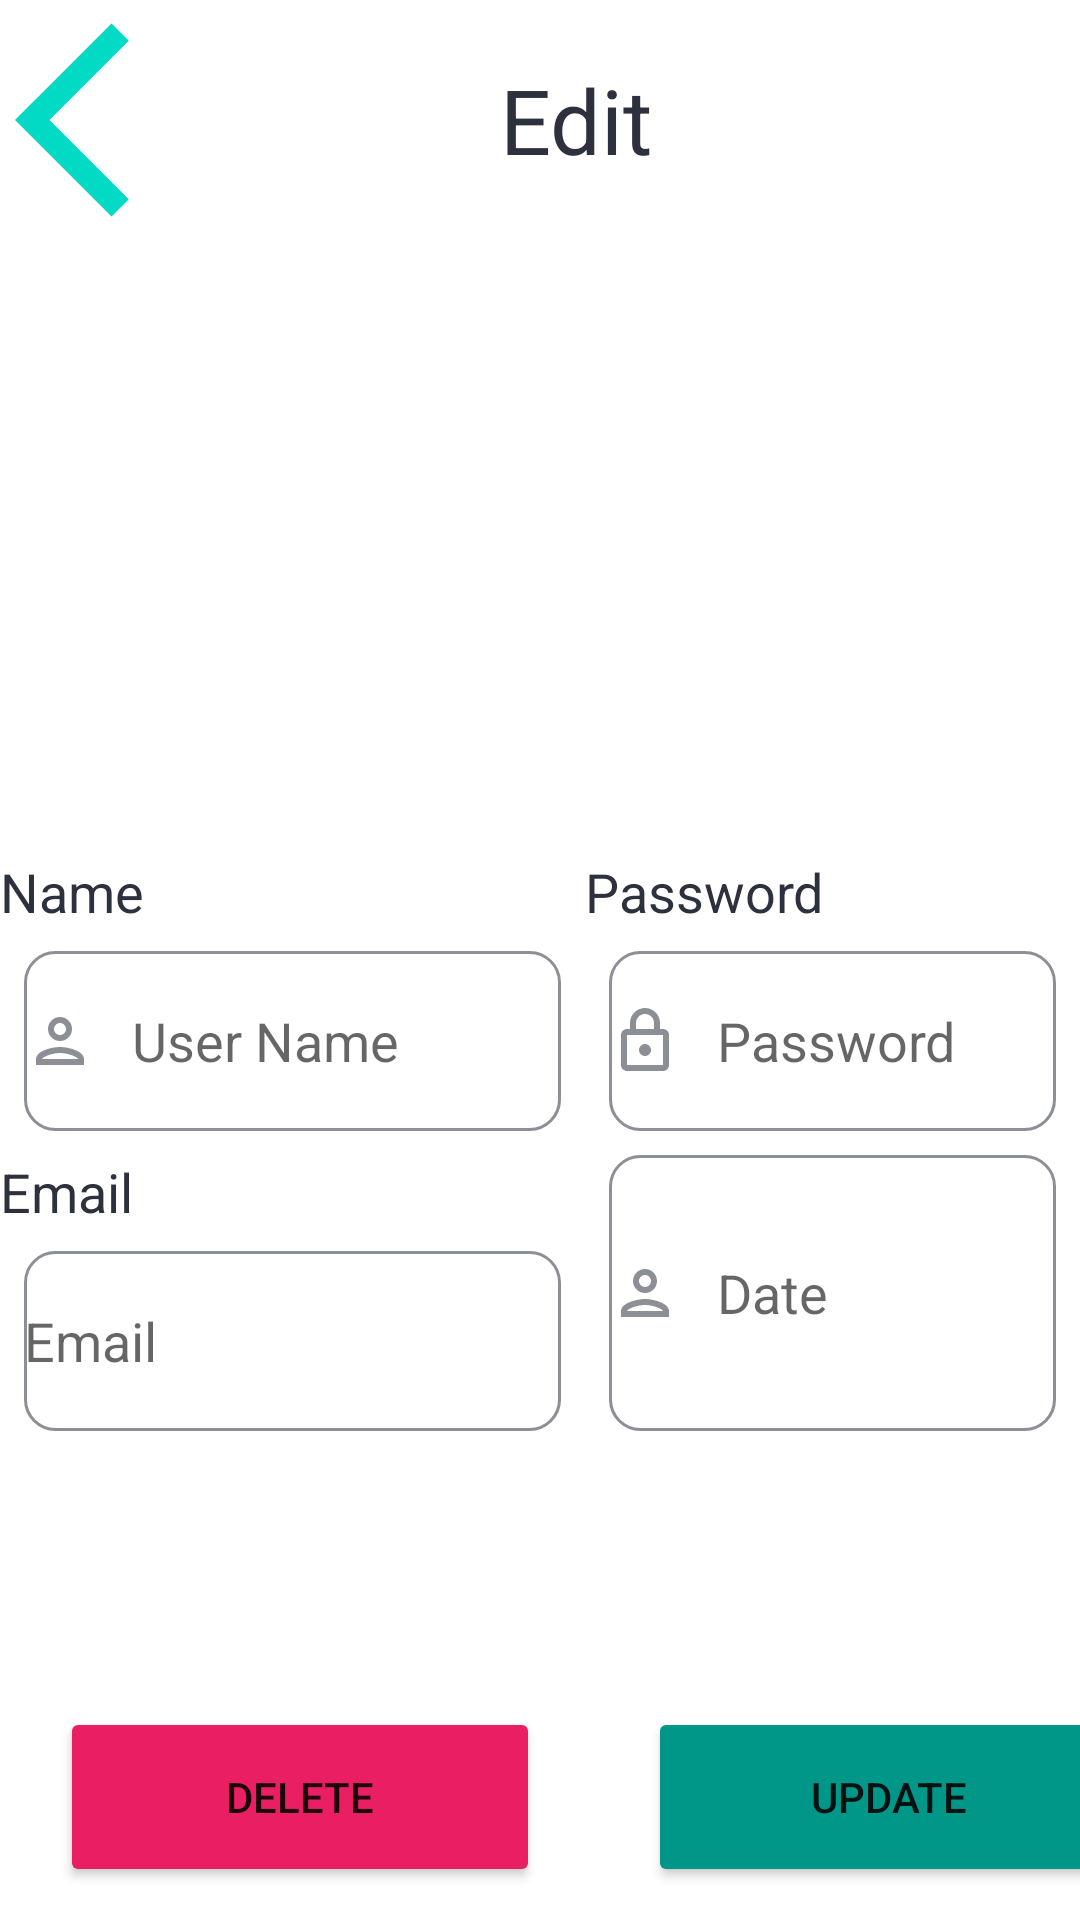

Named icons in this screenshot (1080px×1920px) and their bounding boxes, (x1, y1, x2, y2):
back: (15, 23, 129, 217)
